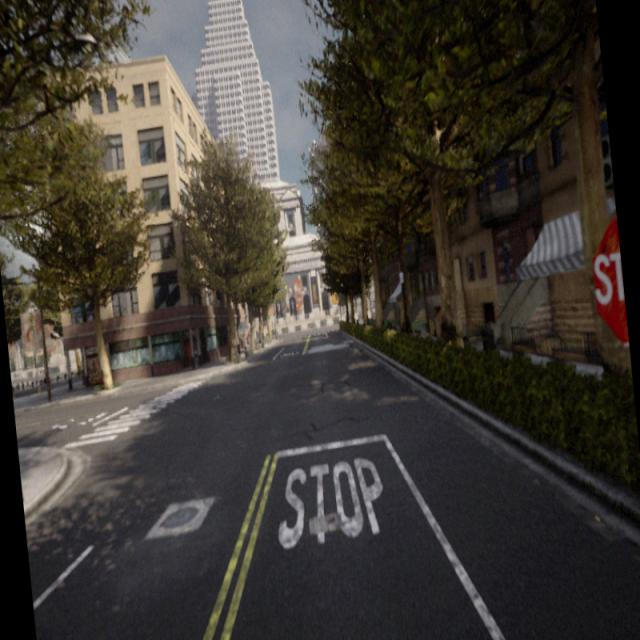stop sign: (588, 210, 630, 347), (592, 250, 625, 306)
